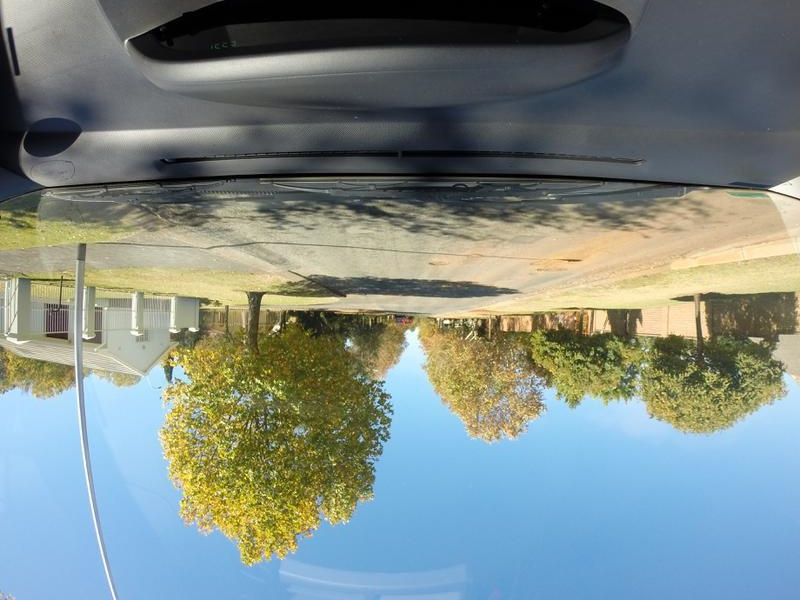pothole: (539, 244, 596, 279), (422, 252, 461, 269)
